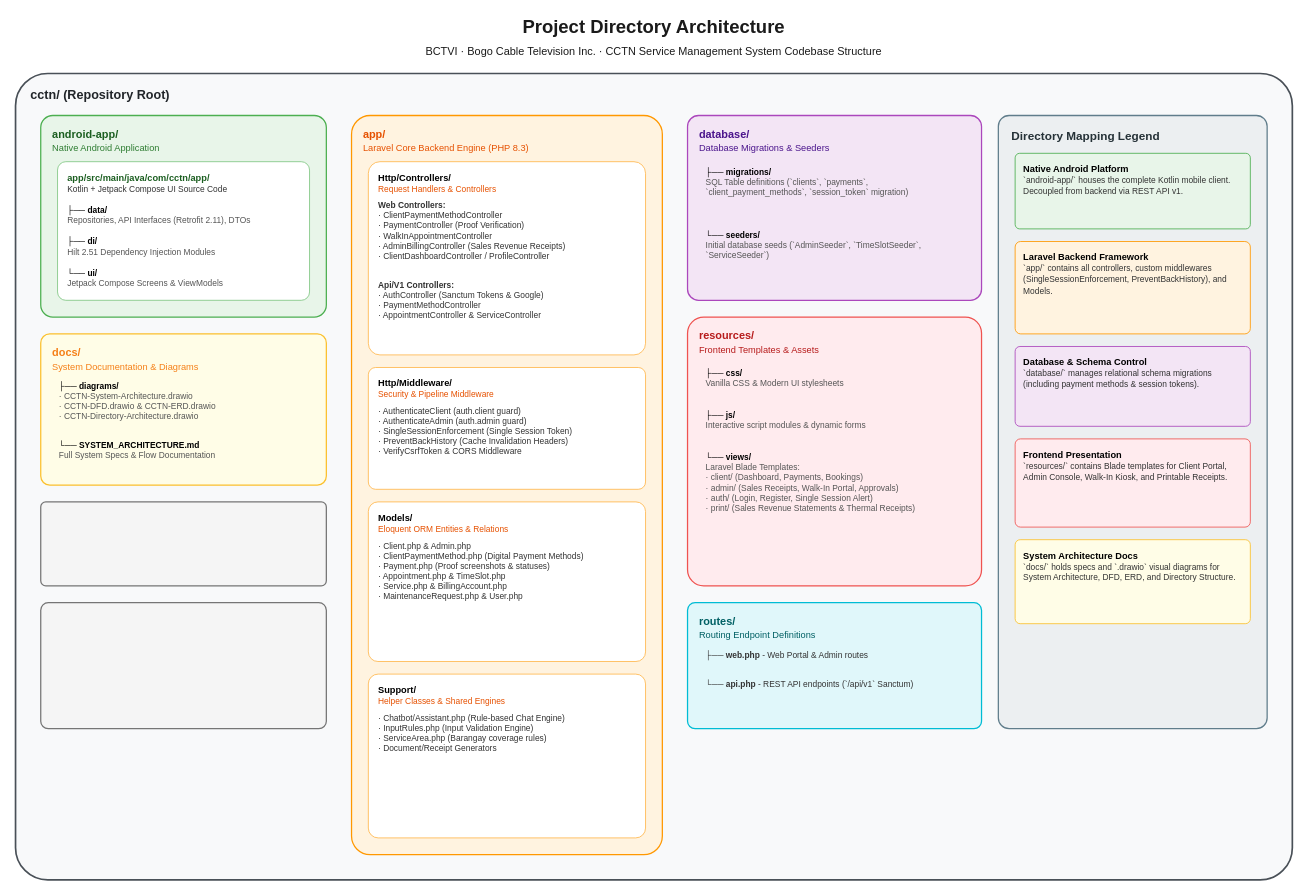
Some shapes in this 1307 by 895 pixel diagram are drawn without their labels. Each missing label, with the centre of its shape:
"config/ - Framework & Service Configs (`auth.php`, `services.php` for OAuth)" belongs at pixel 183 543.
"public/ - Document Root (`index.php`, `.htaccess`, `/uploads` storage link)" belongs at pixel 183 665.
